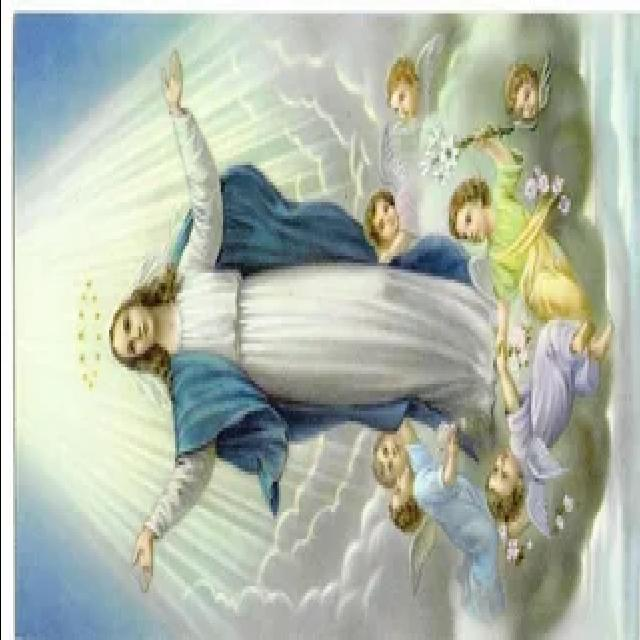mother of god: (103, 92, 490, 564)
